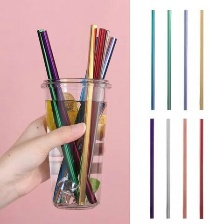drinking_straw: (146, 116, 159, 220), (194, 117, 206, 221), (195, 8, 207, 111), (179, 7, 190, 111), (148, 7, 158, 111), (180, 115, 189, 221), (164, 7, 173, 112), (163, 116, 172, 220)
glass: (37, 74, 115, 212)
